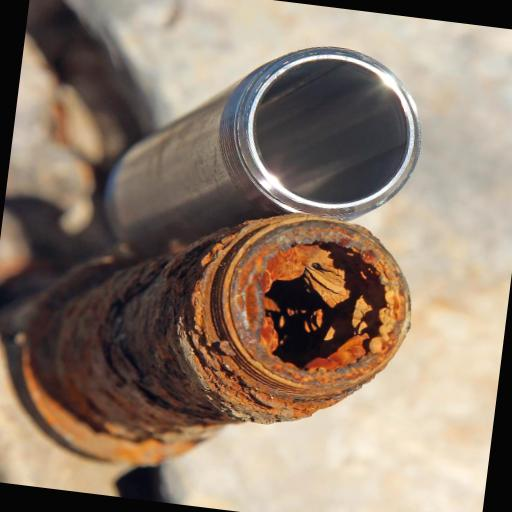corrosion: (0, 174, 436, 497)
